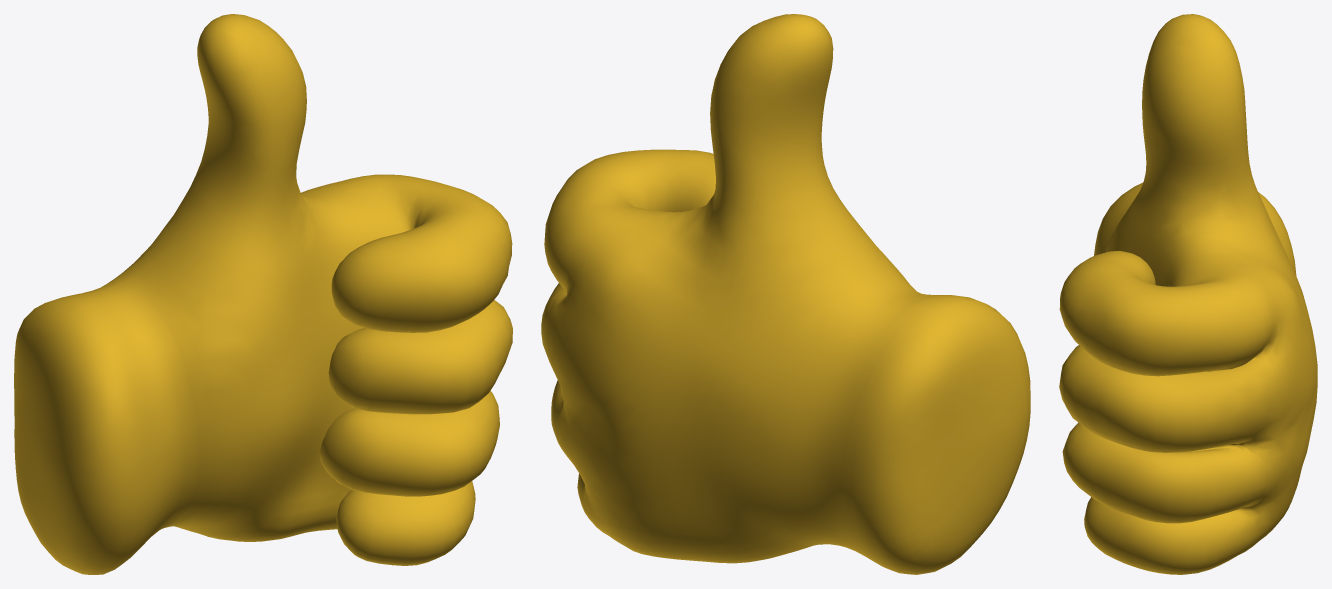
Rendered from thumbs UP.glb.
3 views of the same model, side by side, from view 1: azimuth 30°, elevation 25°; view 2: azimuth 150°, elevation 25°; view 3: azimuth 270°, elevation 25° (orthographic). The views are drawn at different scales.
Parts seen in each view (by area): view 1: Group1875; view 2: Group1875; view 3: Group1875.
Part boxes in pixels (left/top/right/bottom): Group1875: left=14, top=14, right=512, bottom=574; Group1875: left=541, top=14, right=1030, bottom=574; Group1875: left=1059, top=14, right=1317, bottom=574.
Size of the model in its own units: 0.3411 by 0.4003 by 0.1959.
